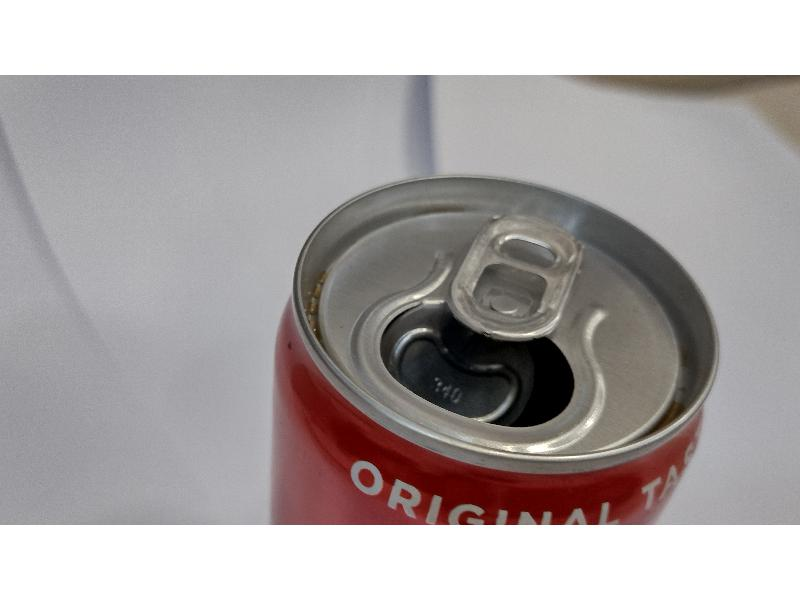can: (258, 167, 723, 524)
